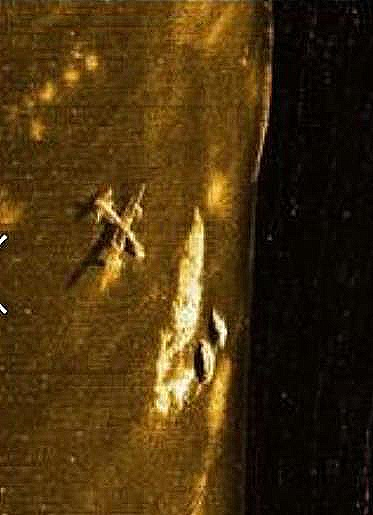aircraft: (90, 179, 147, 291)
